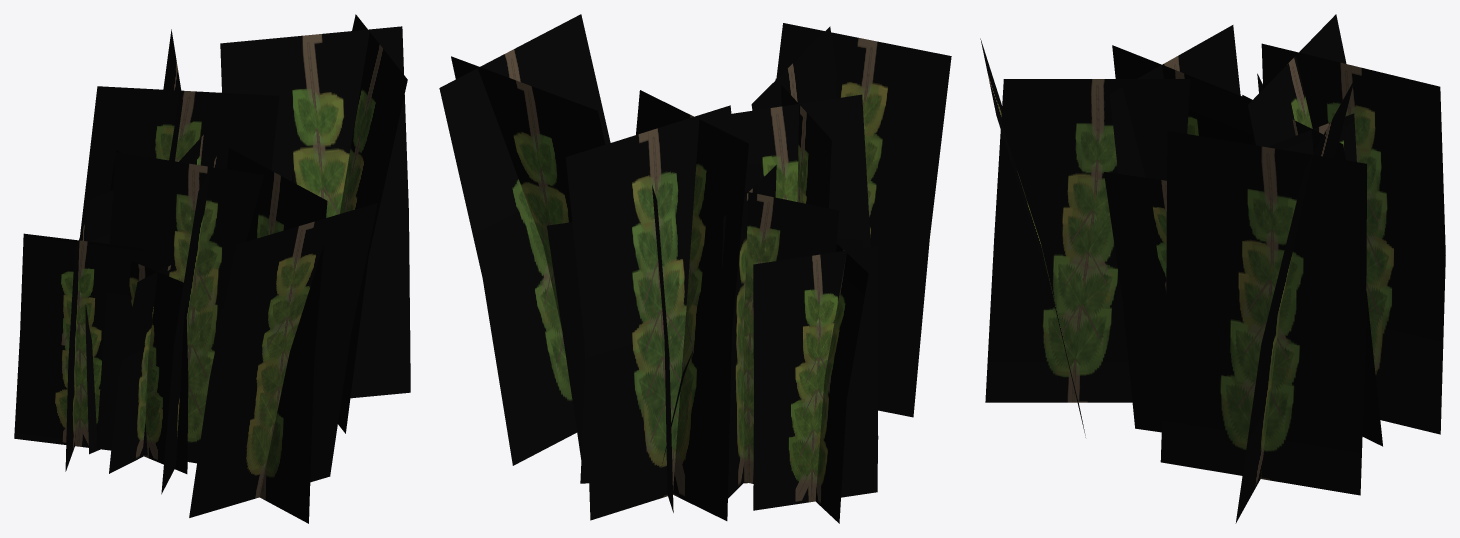
The model's file is kopriva_1.glb.
3 renders of one model, left to right at view 1: azimuth 30°, elevation 25°; view 2: azimuth 150°, elevation 25°; view 3: azimuth 270°, elevation 25°, orthographic. The views are drawn at different scales.
Parts seen in each view (by area): view 1: kopriva_1; view 2: kopriva_1; view 3: kopriva_1.
Part boxes in pixels (bbox=[...]): kopriva_1: bbox=[14, 14, 410, 523]; kopriva_1: bbox=[439, 14, 951, 523]; kopriva_1: bbox=[980, 14, 1445, 523].
Bounding box in the file's own units: 1.46 × 1.28 × 1.41.
Materials: 1 (1 with a texture image).
